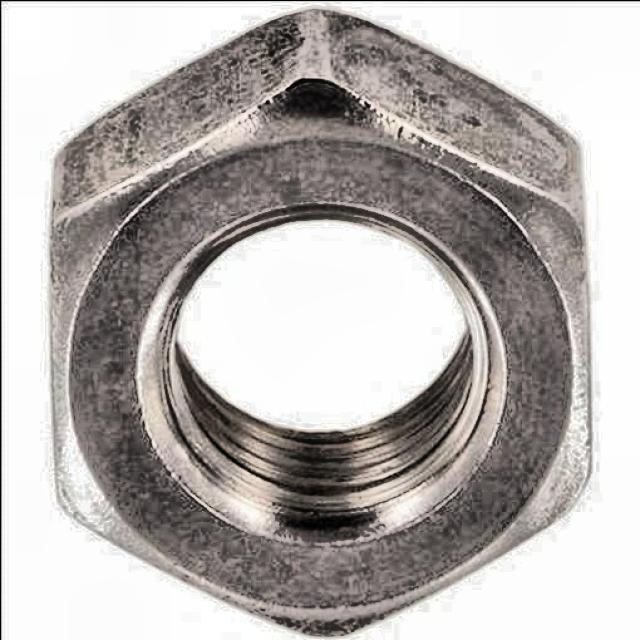Nut Detection - v1 Nut Dataset: (28, 2, 608, 638)
